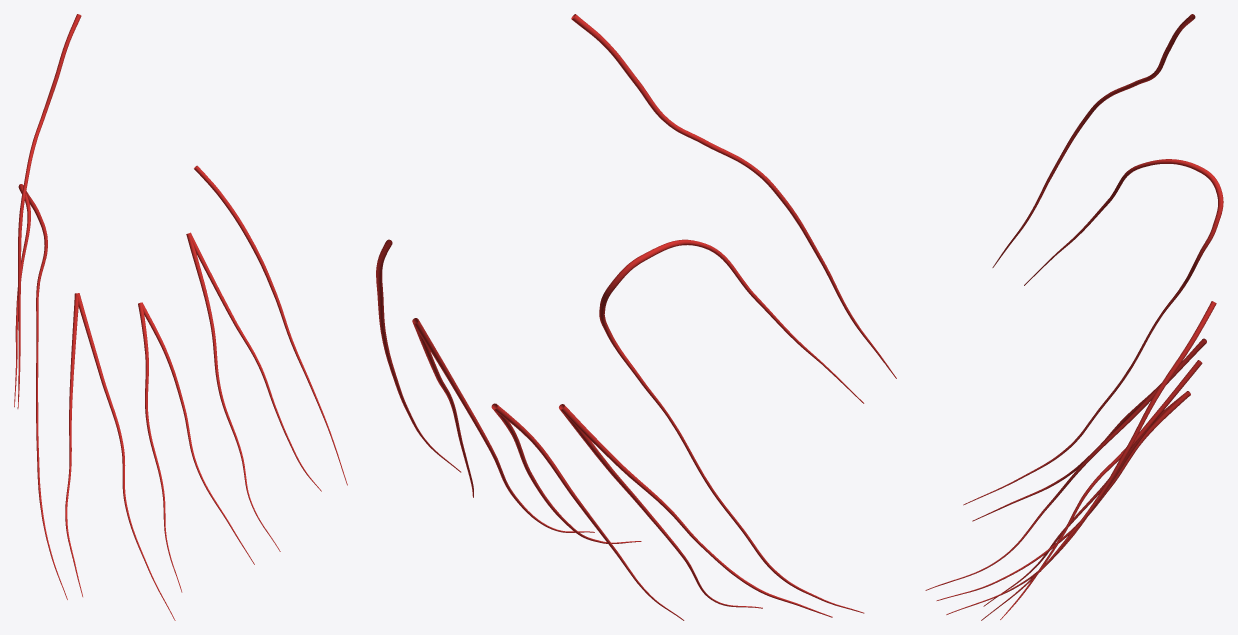
File: circulatorio-dorsal-digital-veins-of-hand-r.glb
3 views of the same model, side by side, from view 1: azimuth 30°, elevation 25°; view 2: azimuth 150°, elevation 25°; view 3: azimuth 270°, elevation 25° (orthographic). The views are drawn at different scales.
Parts seen in each view (by area): view 1: Dorsal digital veins of hand.r; view 2: Dorsal digital veins of hand.r; view 3: Dorsal digital veins of hand.r.
Boxes of the visible parts, left/top/right/bottom form: Dorsal digital veins of hand.r: left=14, top=14, right=347, bottom=620; Dorsal digital veins of hand.r: left=376, top=14, right=896, bottom=620; Dorsal digital veins of hand.r: left=925, top=14, right=1223, bottom=620.
Size of the model in its own units: 0.1062 by 0.1592 by 0.0732.
